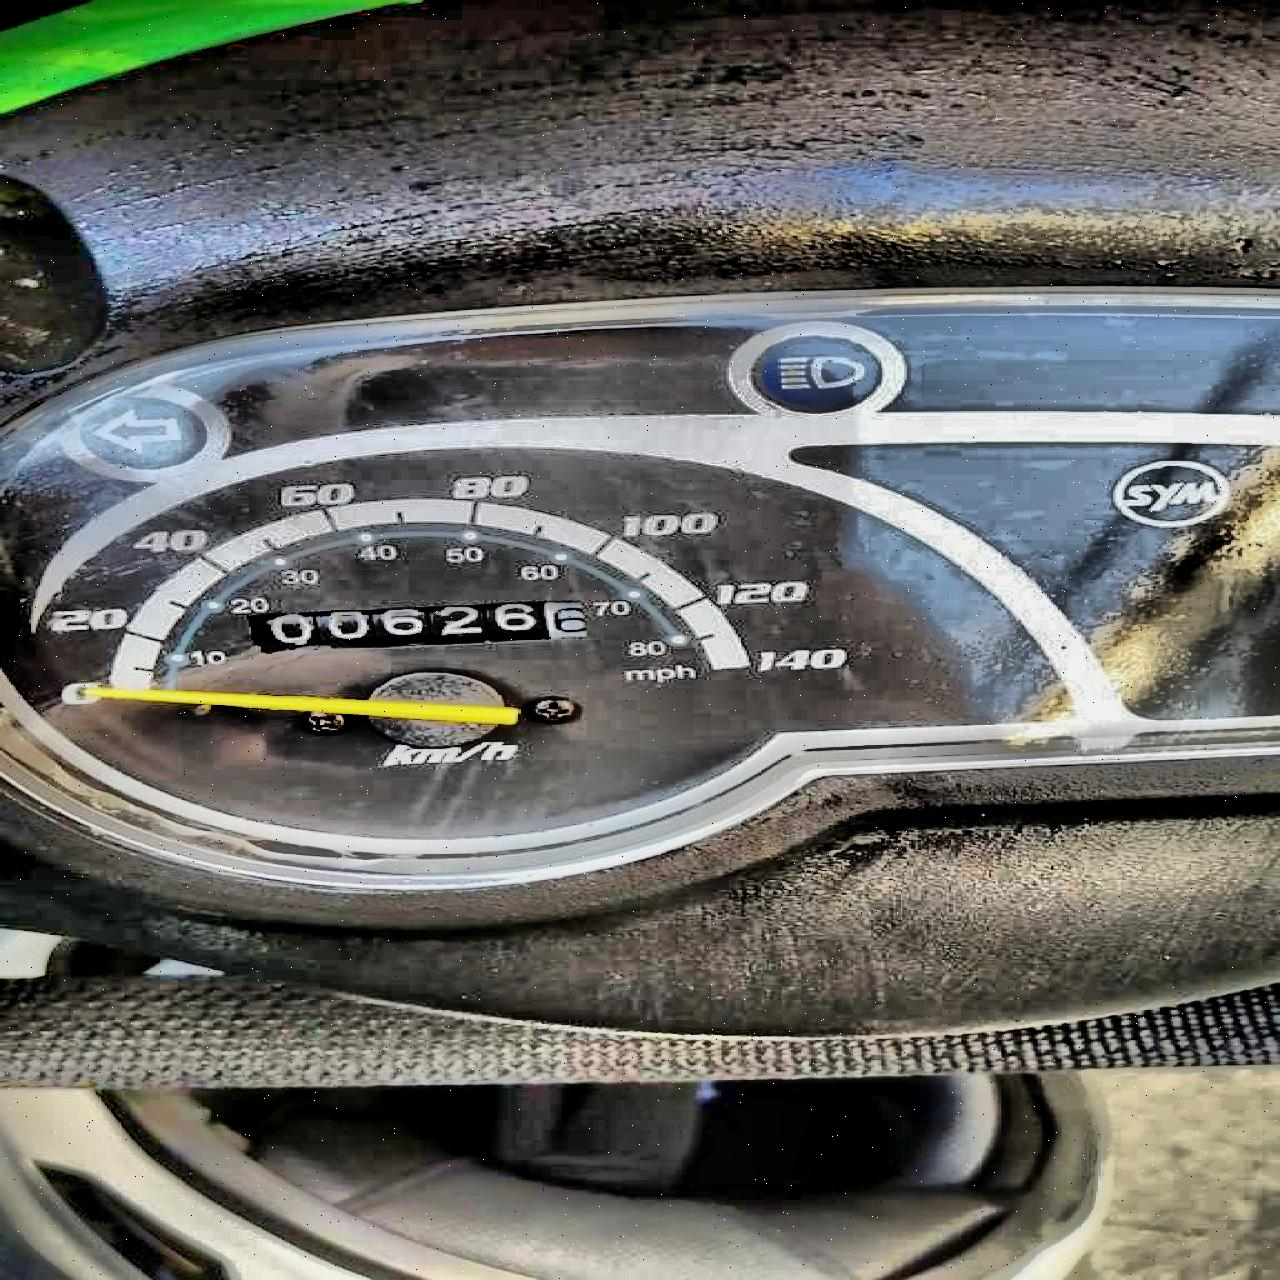0: (267, 613, 313, 644), (322, 610, 369, 639), (248, 597, 268, 612)
2: (434, 605, 483, 635), (240, 597, 248, 613)
6: (377, 606, 424, 635), (489, 601, 536, 631), (549, 606, 587, 633)
odometer: (240, 595, 593, 655)
